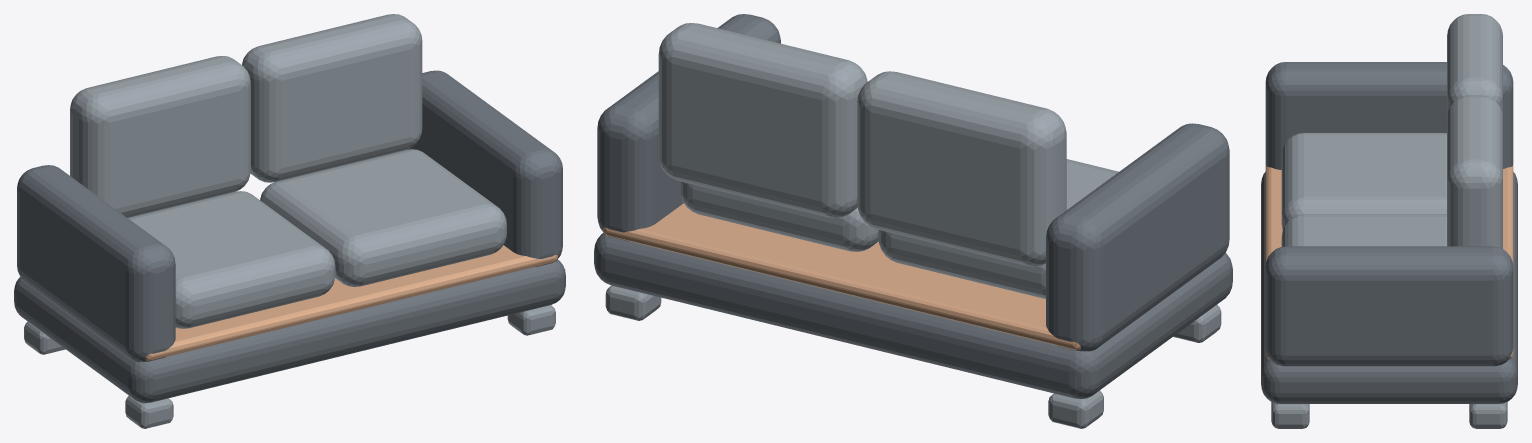
Rendered from media_loveseat.glb.
3 renders of one model, left to right at view 1: azimuth 30°, elevation 25°; view 2: azimuth 150°, elevation 25°; view 3: azimuth 270°, elevation 25°, orthographic. The views are drawn at different scales.
Parts seen in each view (by area): view 1: shell_010, shell_008, shell_005, shell_009, shell_011, shell_007, shell_013, shell_006, foot_002, foot_004, foot_001; view 2: shell_008, shell_010, shell_005, shell_011, shell_006, shell_013, shell_007, shell_009, foot_001, foot_003, foot_002; view 3: shell_013, shell_011, shell_007, shell_005, shell_010, shell_009, shell_008, shell_006, foot_003, foot_004.
Part boxes in pixels (x1,y1,x2,y2): shell_010: (242,14,422,182); shell_008: (70,56,250,217); shell_005: (14,259,565,403); shell_009: (260,149,506,286); shell_011: (17,165,175,361); shell_007: (128,191,335,328); shell_013: (408,70,562,266); shell_006: (145,245,557,360); foot_002: (125,396,173,428); foot_004: (507,305,555,335); foot_001: (24,321,65,354); shell_008: (857,71,1066,266); shell_010: (658,23,867,218); shell_005: (594,233,1232,398); shell_011: (1046,123,1229,351); shell_006: (603,203,1080,350); shell_013: (597,14,780,241); shell_007: (878,159,1118,298); shell_009: (679,181,878,251); foot_001: (1048,390,1103,428); foot_003: (605,285,661,320); foot_002: (1173,304,1221,342); shell_013: (1265,246,1513,366); shell_011: (1265,62,1513,169); shell_007: (1281,133,1446,230); shell_005: (1261,172,1517,403); shell_010: (1447,95,1502,248); shell_009: (1281,214,1446,246); shell_008: (1447,14,1502,116); shell_006: (1265,164,1513,359); foot_003: (1469,402,1507,428); foot_004: (1271,402,1309,428).
Bounding box in the file's own units: 1.66 × 0.915 × 0.87.
